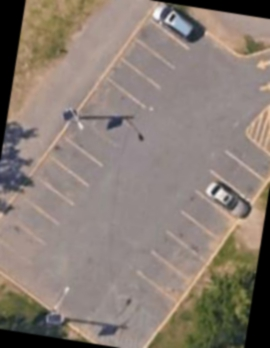parkingspot: (0, 1, 212, 290), (131, 124, 270, 308)
